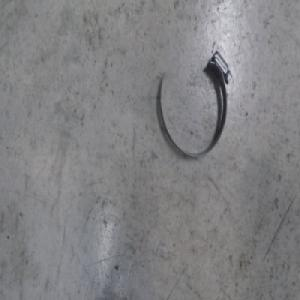AdjustableClamp: (157, 48, 231, 163)
